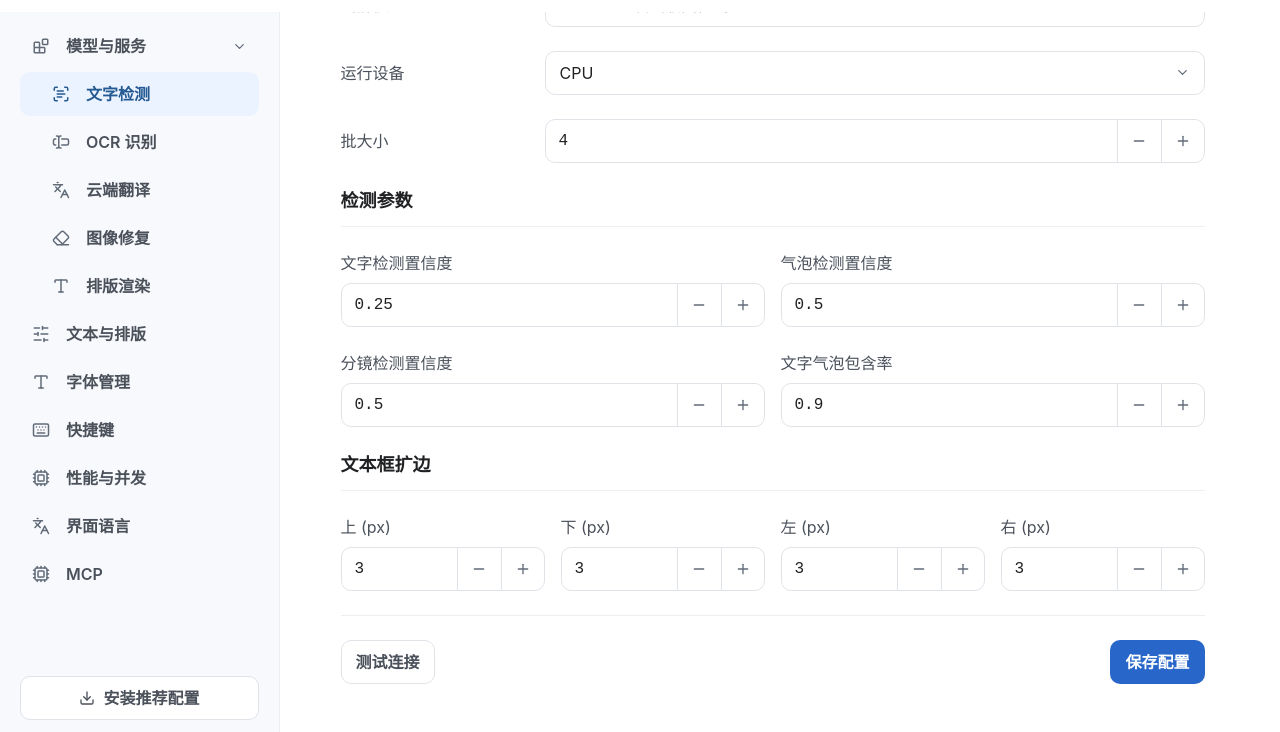
classification model form › waits for the save request before showing success and blocks repeated clicks
The image size is (1280, 732).
(page scrolled)
Expected: the field labelled "文字检测置信度" is shown, [340,283,676,327]
Click the button "保存配置" at (1158, 662), box [1110,640,1204,684]
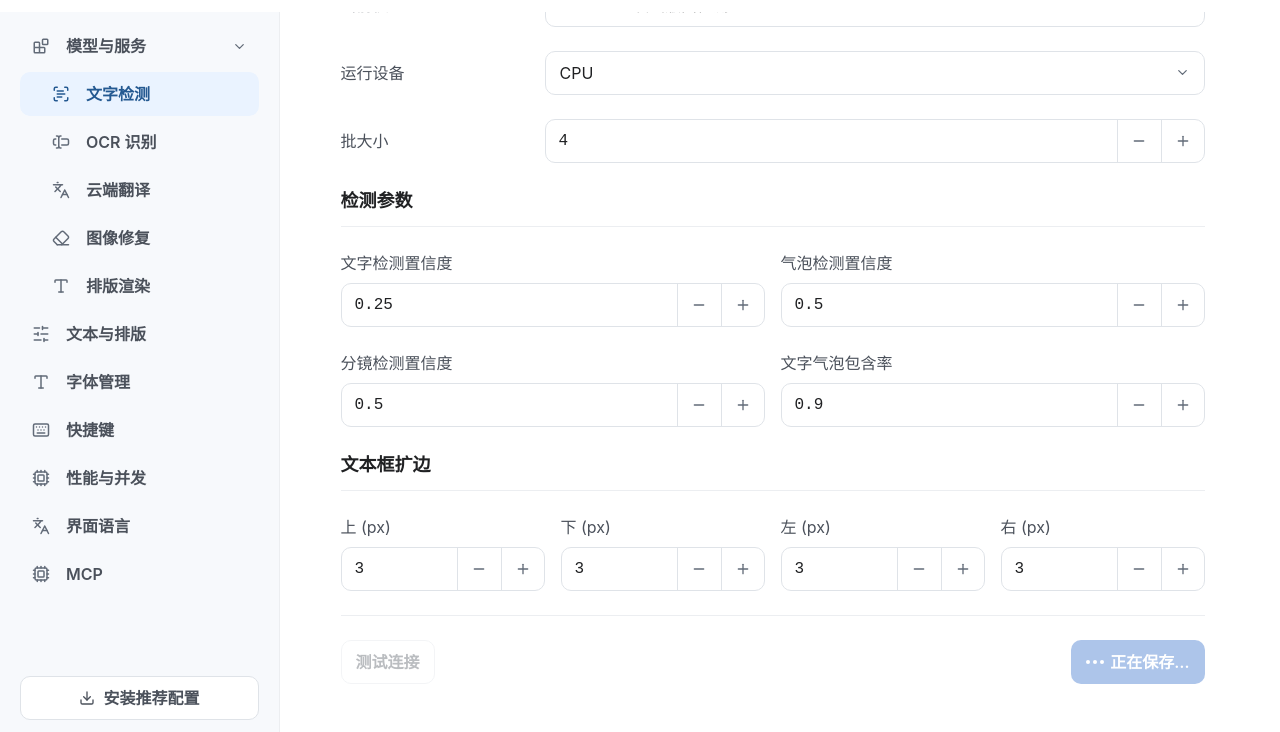
Expected: the button "正在保存…" is disabled
Click the button "正在保存…" at (1138, 662), box [1071,640,1204,684]
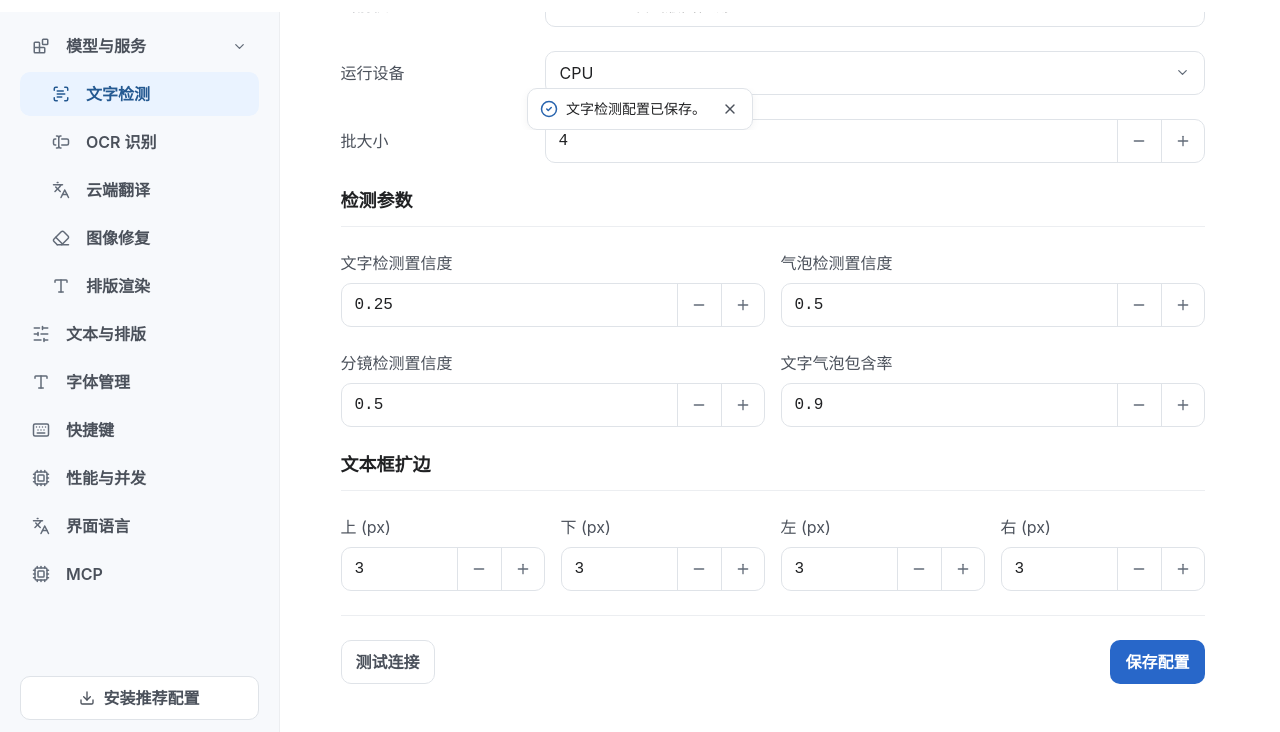
Expected: the message named "保存成功" is shown, [527,88,753,130]
